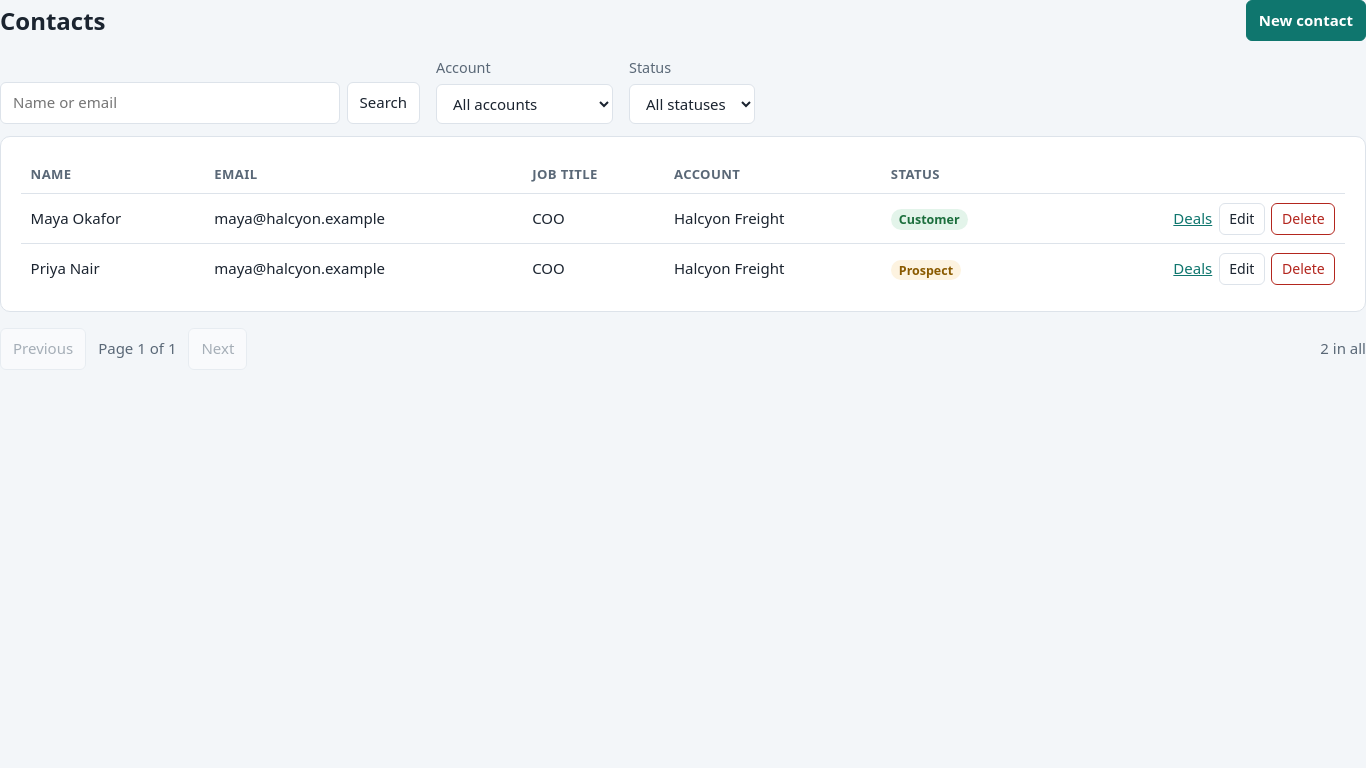
Test: ContactsPage › shows Delete only to an ADMIN, and the 409 history message when the server refuses
The image size is (1366, 768).
Expected: the text "Maya Okafor" is shown, [21,193,205,244]
Click the button with aria-label "Delete Maya Okafor".
click(1303, 219)  # box [1271,203,1335,234]
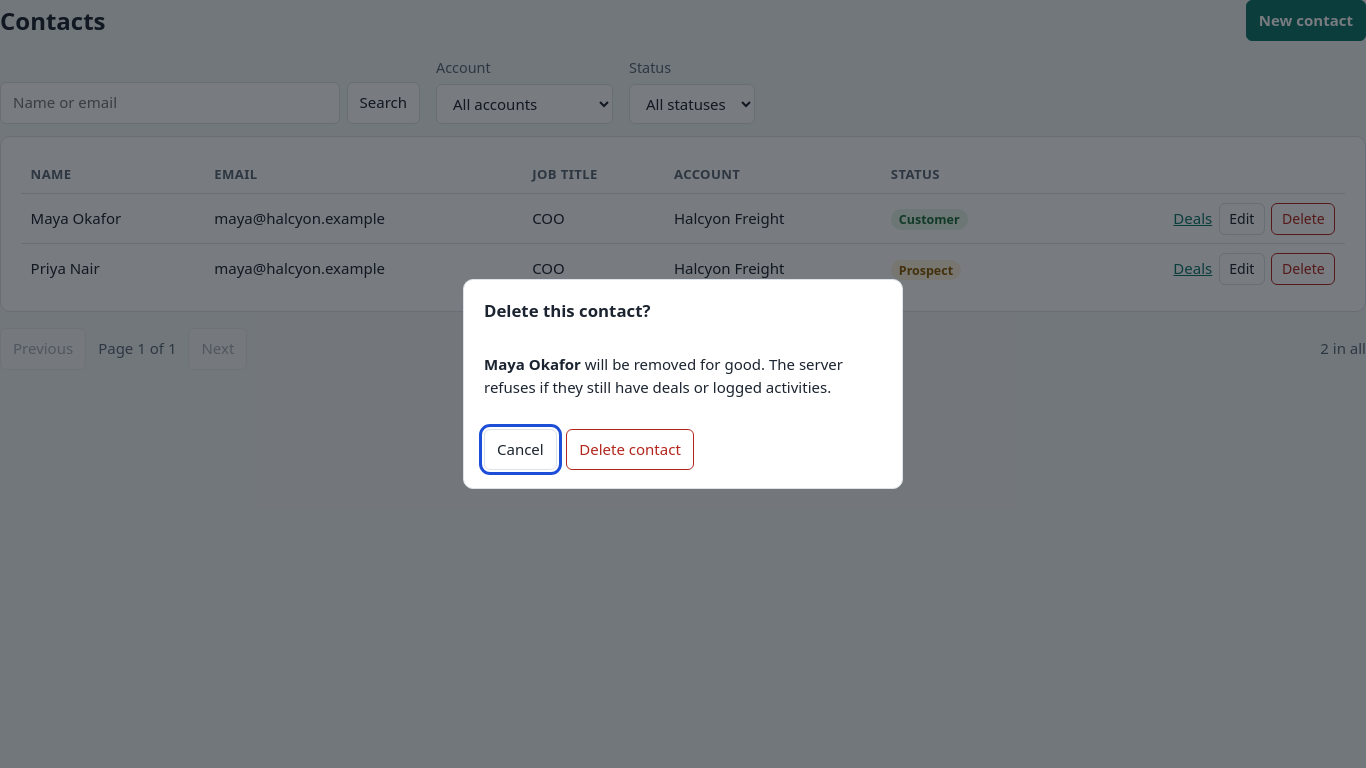
Click the button "Delete contact".
click(630, 450)  # box [566,429,694,470]
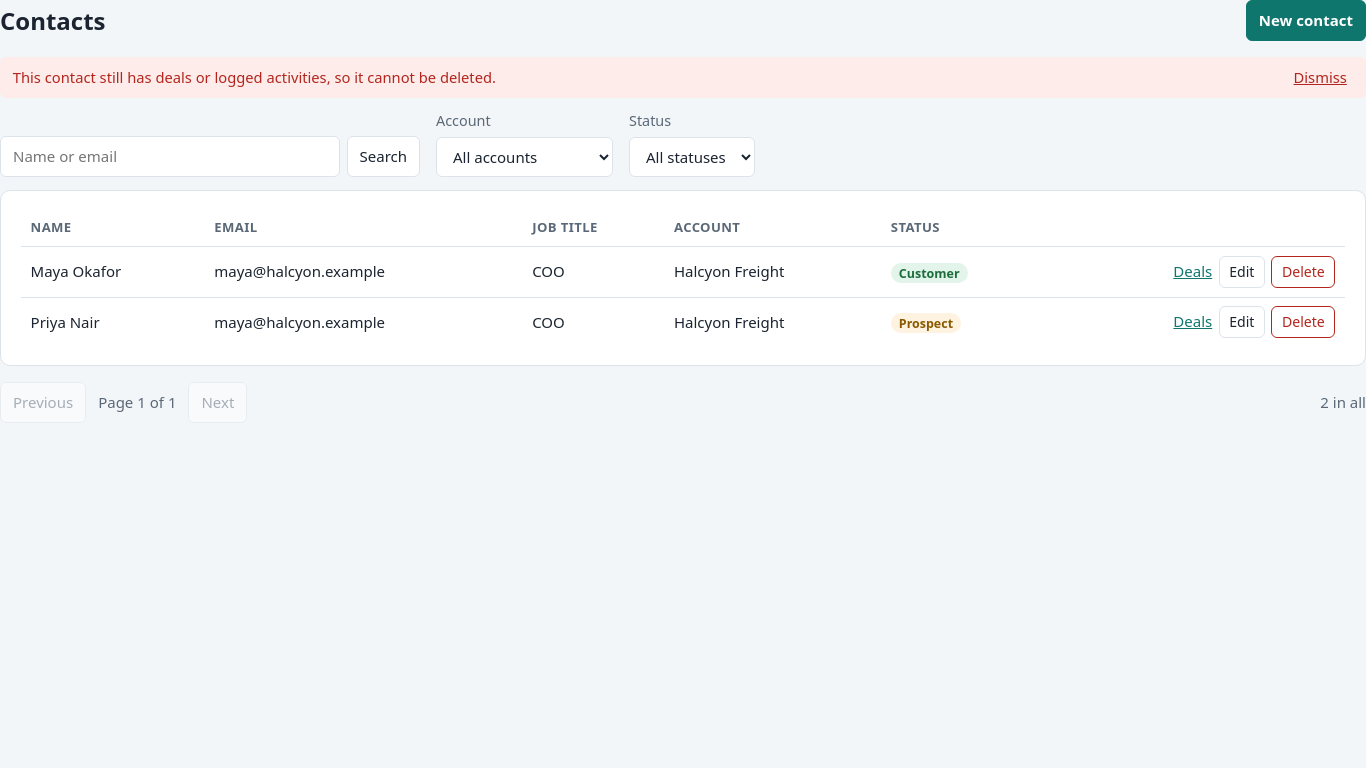
Expected: the message shows "still has deals or logged activities", [13,67,496,87]
